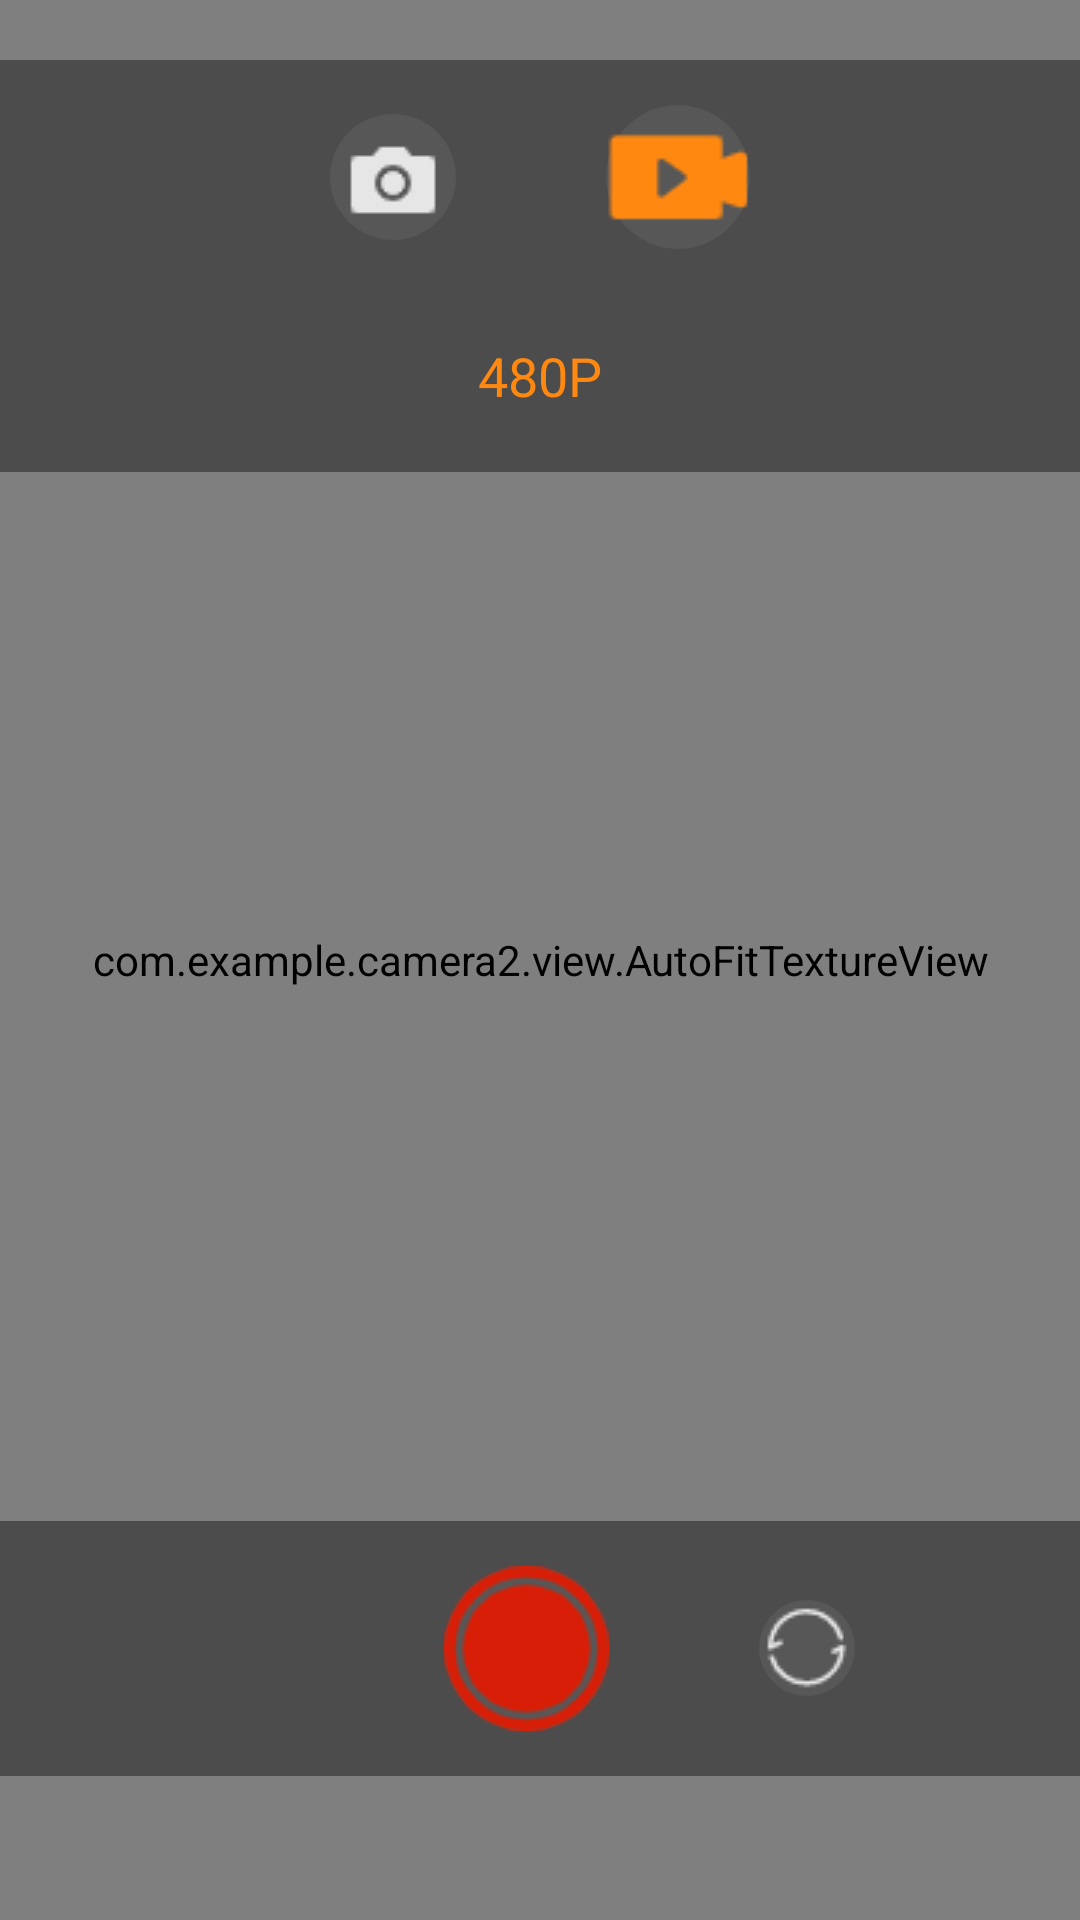

Icon click points for this 1080×1920 phone screenshot, format (x=x, y=y):
change: (x=807, y=1648)
photo: (x=393, y=180)
recording: (x=526, y=1648)
video: (x=678, y=177)
